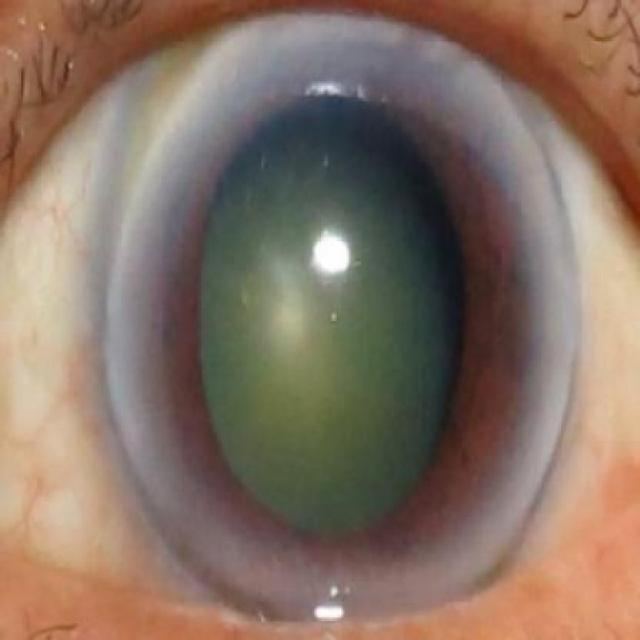Cataract: (102, 19, 585, 632)
